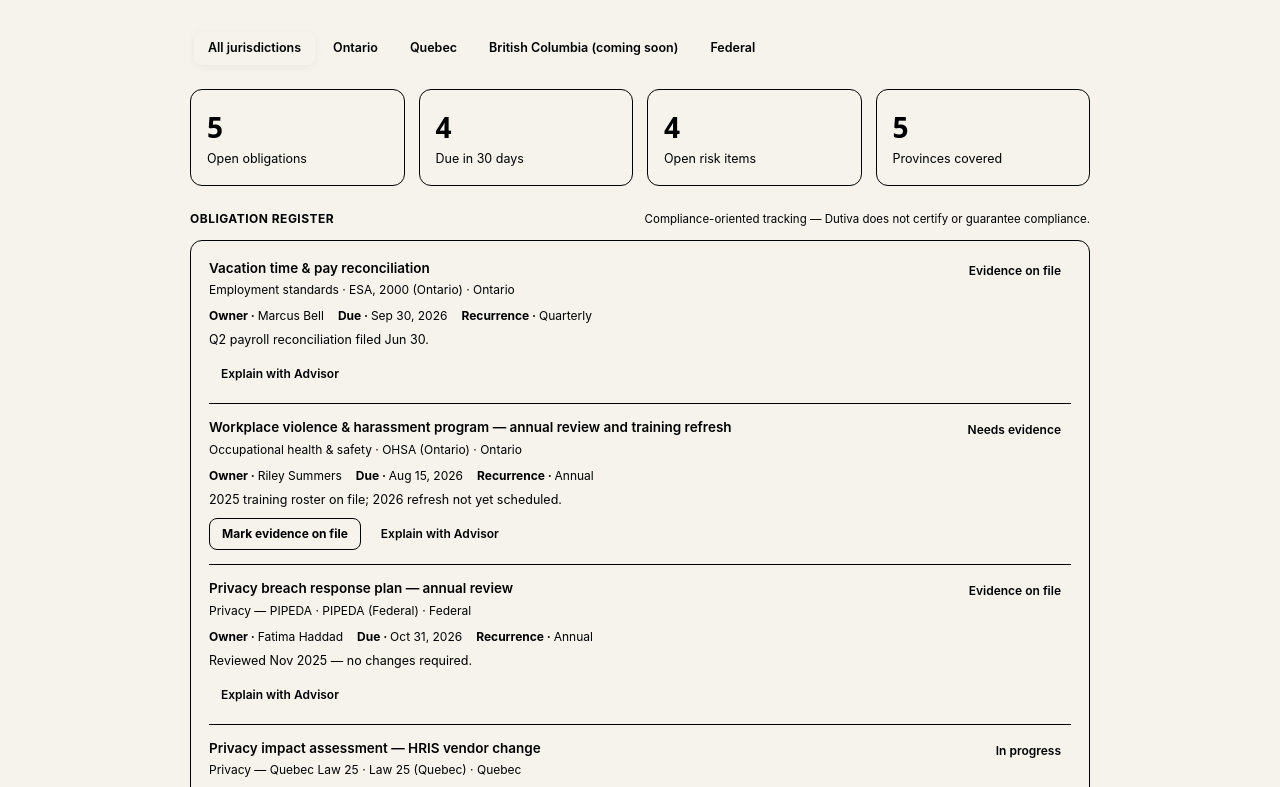
Test: ComplianceView › marks obligation evidence on file and swaps in the audit-trail line
Click the button "Mark evidence on file": (285, 534) [209,518,361,550]
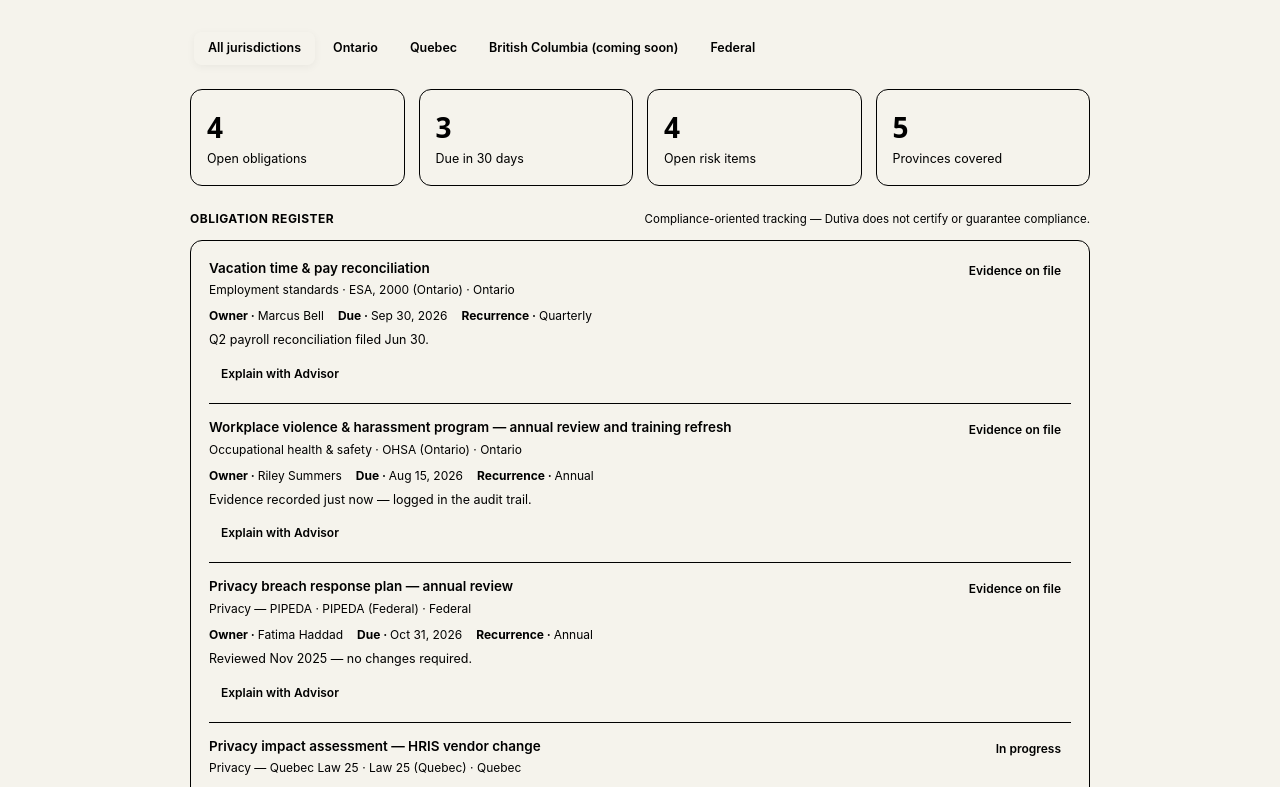
Expected: the text "Evidence recorded just now — logged in the audit trail." is shown, [209,492,532,507]
